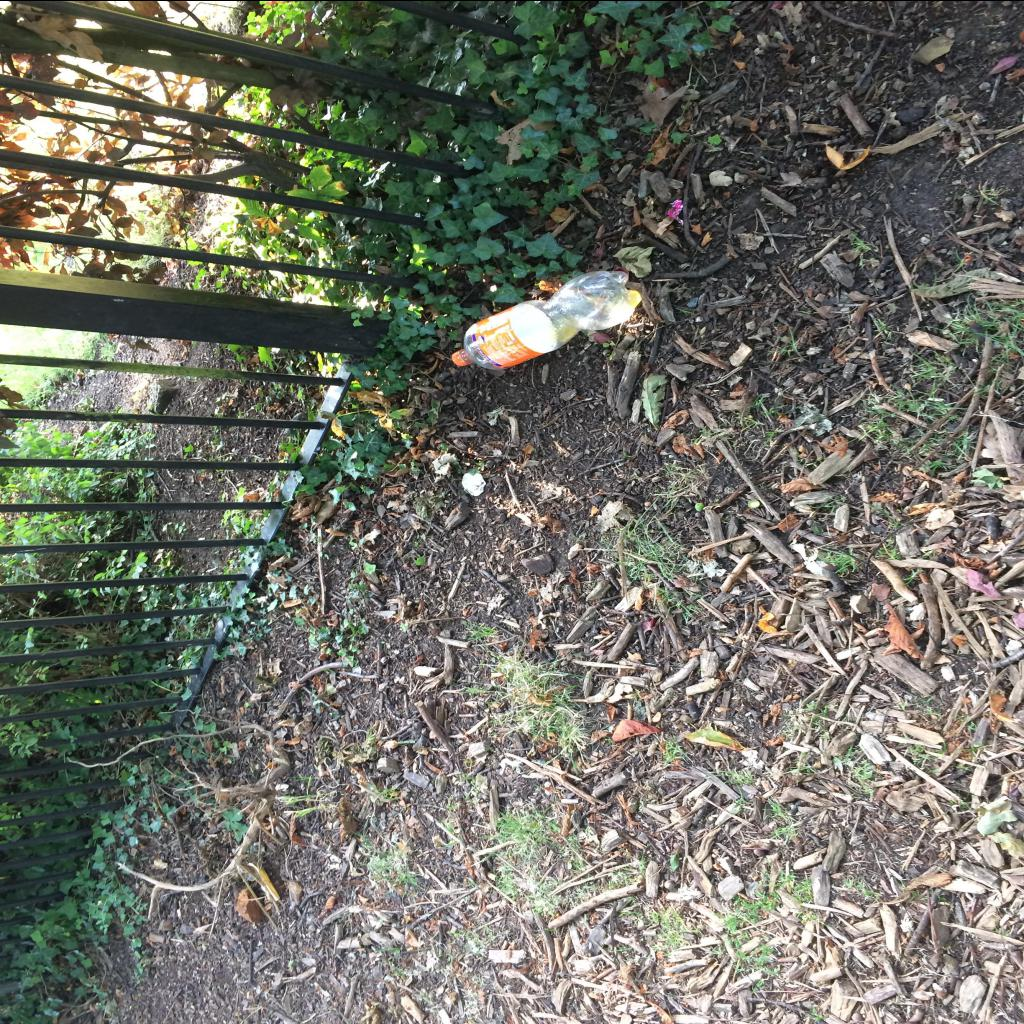Clear plastic bottle: (452, 270, 642, 369)
Other plastic: (666, 198, 682, 224)
Plastic bottle cap: (451, 351, 464, 366)
